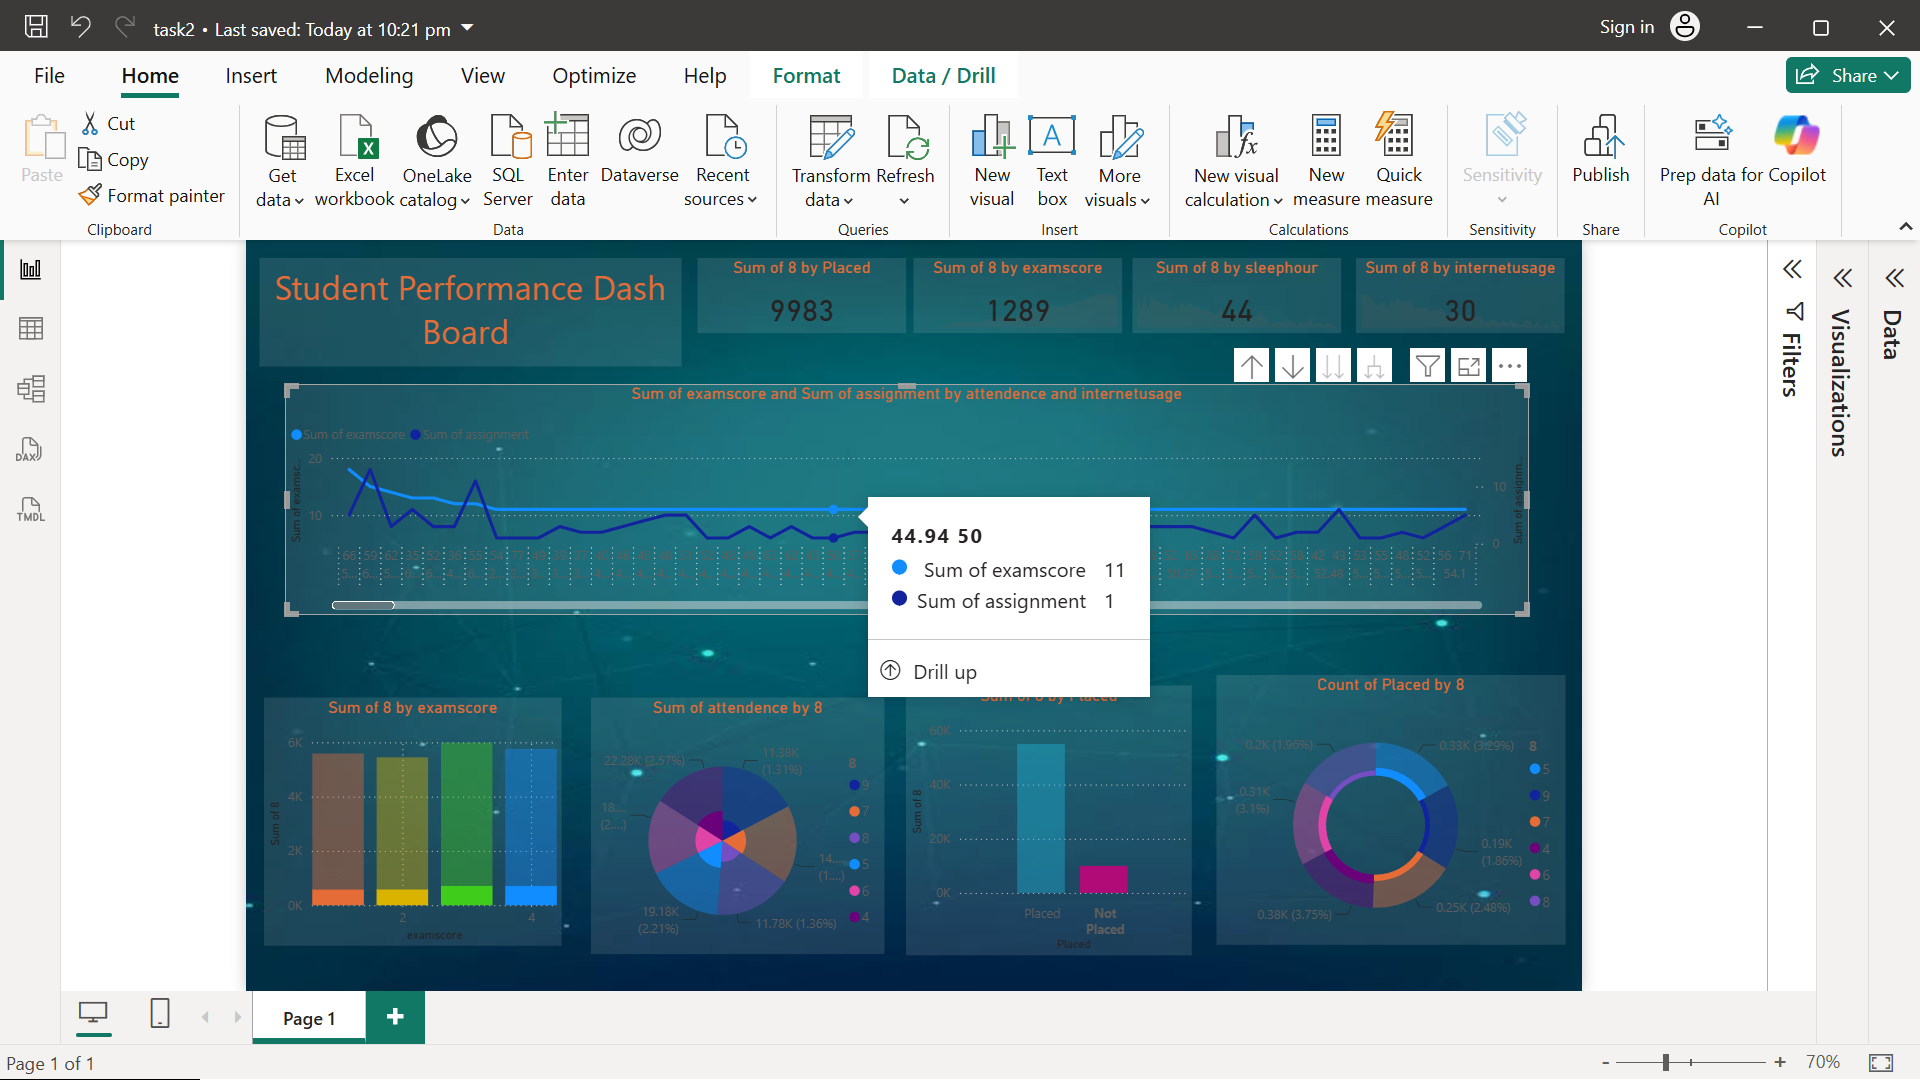

The page's visual inventory and layout, read from the dashboard file:
{"tool":"powerbi","page":{"name":"Page 1","canvas":[1280,720],"ordinal":0},"visuals":[{"type":"clusteredColumnChart","fields":{"Category":["student_dataset_10000_rows.examscore"],"Y":["Sum(student_dataset_10000_rows.8)"]},"box":[17,438.4,285.4,238.1],"z":0},{"type":"pieChart","fields":{"Category":["student_dataset_10000_rows.8"],"Y":["Sum(student_dataset_10000_rows.attendence)"]},"box":[330.7,438.4,281.6,245.7],"z":1},{"type":"columnChart","fields":{"Category":["student_dataset_10000_rows.Placed"],"Y":["Sum(student_dataset_10000_rows.8)"]},"box":[633.1,427.1,274,258.9],"z":2},{"type":"lineChart","fields":{"Category":["student_dataset_10000_rows.attendence","student_dataset_10000_rows.internetusage"],"Y":["Sum(student_dataset_10000_rows.examscore)"],"Y2":["Sum(student_dataset_10000_rows.assignment)"]},"box":[37.8,138,1192.5,221.1],"z":3},{"type":"textbox","box":[13.2,17,404.4,103.9],"z":4},{"type":"kpi","fields":{"TrendLine":["student_dataset_10000_rows.Placed"],"Indicator":["Sum(student_dataset_10000_rows.8)"]},"box":[432.8,17,200.3,71.8],"z":5},{"type":"kpi","fields":{"TrendLine":["student_dataset_10000_rows.sleephour"],"Indicator":["Sum(student_dataset_10000_rows.8)"]},"box":[850.4,17,200.3,71.8],"z":6},{"type":"kpi","fields":{"TrendLine":["student_dataset_10000_rows.examscore"],"Indicator":["Sum(student_dataset_10000_rows.8)"]},"box":[640.6,17,200.3,71.8],"z":7},{"type":"kpi","fields":{"TrendLine":["student_dataset_10000_rows.internetusage"],"Indicator":["Sum(student_dataset_10000_rows.8)"]},"box":[1063.9,17,200.3,71.8],"z":8},{"type":"donutChart","fields":{"Category":["student_dataset_10000_rows.8","student_dataset_10000_rows.examscore"],"Y":["CountNonNull(student_dataset_10000_rows.Placed)"]},"box":[929.8,417.6,334.5,258.9],"z":9}]}

Visuals, with their boxes on the page's 1280x720 design canvas (x1, y1, x2, y2). These are canvas units, not pixel positions in the 1920x1080 screenshot, which may show the page scaled, cropped or inside an application window:
clusteredColumnChart - student_dataset_10000_rows.examscore x Sum(student_dataset_10000_rows.8): (left=17, top=438, right=302, bottom=676)
pieChart - student_dataset_10000_rows.8 x Sum(student_dataset_10000_rows.attendence): (left=331, top=438, right=612, bottom=684)
columnChart - student_dataset_10000_rows.Placed x Sum(student_dataset_10000_rows.8): (left=633, top=427, right=907, bottom=686)
lineChart - student_dataset_10000_rows.attendence x student_dataset_10000_rows.internetusage: (left=38, top=138, right=1230, bottom=359)
textbox: (left=13, top=17, right=418, bottom=121)
kpi - student_dataset_10000_rows.Placed x Sum(student_dataset_10000_rows.8): (left=433, top=17, right=633, bottom=89)
kpi - student_dataset_10000_rows.sleephour x Sum(student_dataset_10000_rows.8): (left=850, top=17, right=1051, bottom=89)
kpi - student_dataset_10000_rows.examscore x Sum(student_dataset_10000_rows.8): (left=641, top=17, right=841, bottom=89)
kpi - student_dataset_10000_rows.internetusage x Sum(student_dataset_10000_rows.8): (left=1064, top=17, right=1264, bottom=89)
donutChart - student_dataset_10000_rows.8 x student_dataset_10000_rows.examscore: (left=930, top=418, right=1264, bottom=676)
